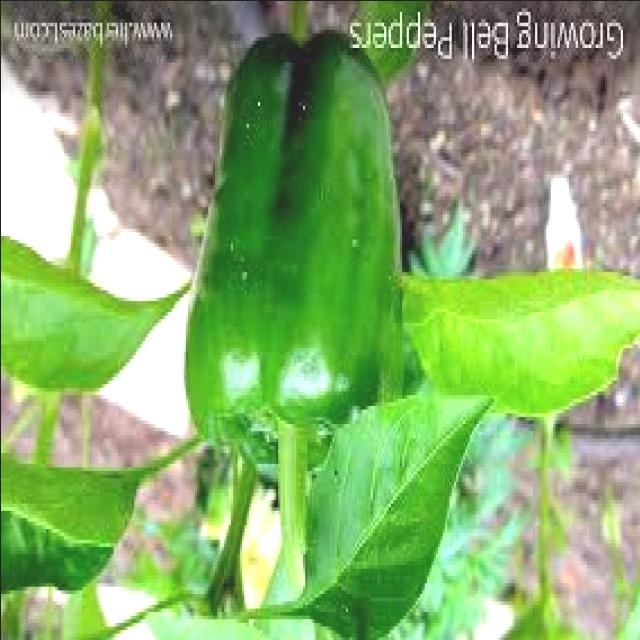bell_pepper: (179, 14, 417, 494)
